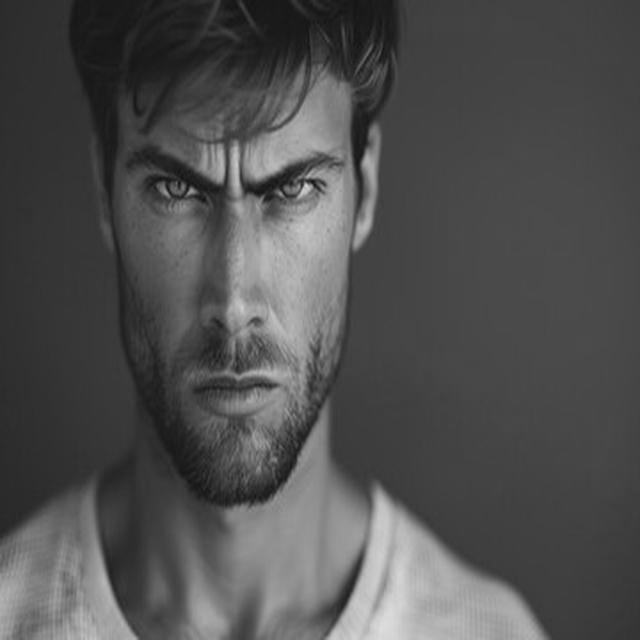Angry: (113, 40, 357, 504)
